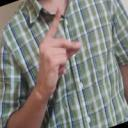hand: (34, 8, 81, 97)
